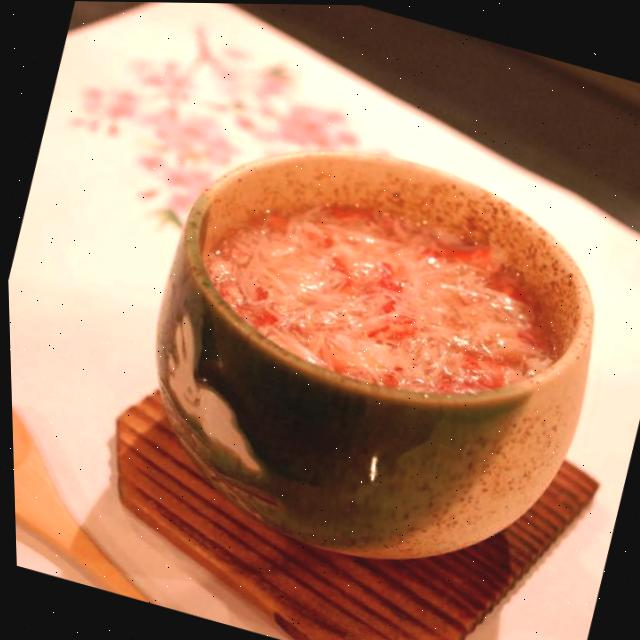鸡蛋料理: (100, 77, 640, 621)
